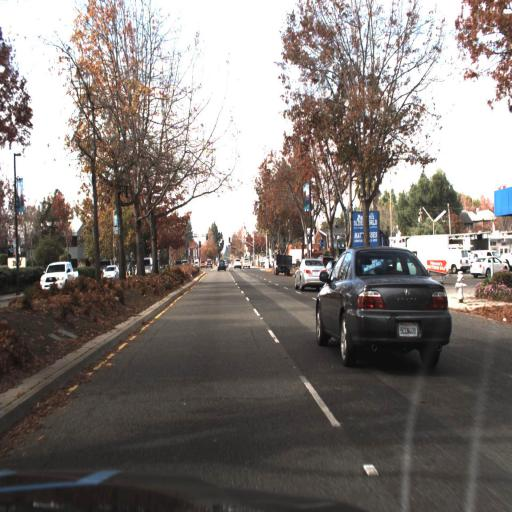car: (313, 240, 453, 374), (40, 258, 80, 297), (293, 256, 328, 294), (474, 252, 507, 282), (98, 261, 123, 283), (138, 253, 156, 278), (234, 258, 248, 278), (202, 254, 215, 272), (216, 261, 227, 277)
truck: (408, 233, 449, 270)
